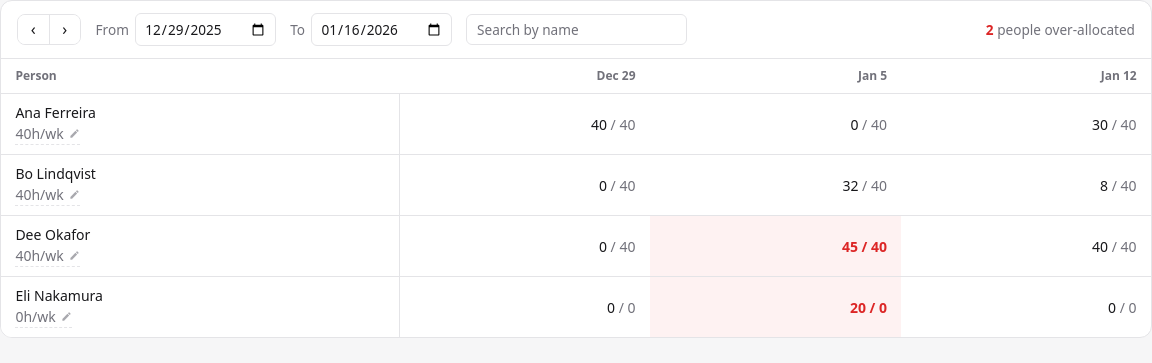
editing capacity › cancels on Escape without saving
Check: the column heading "Ana Ferreira 40h/wk" is shown, box [1,94,400,155]
Click the button "40h/wk" below "Ana Ferreira": [48, 135] box [15,124,80,145]
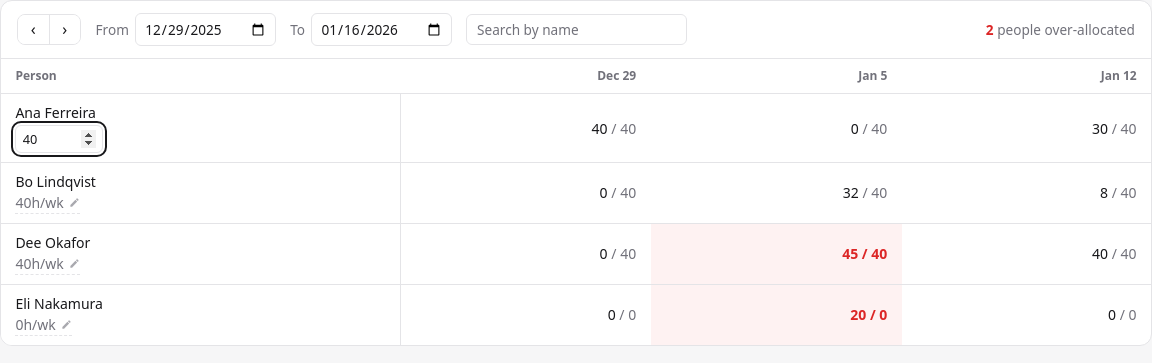
Replace the text in the number field named "Weekly hours for Ana Ferreira" with "50": [59, 139] box [15,125,103,153]
Then press Escape
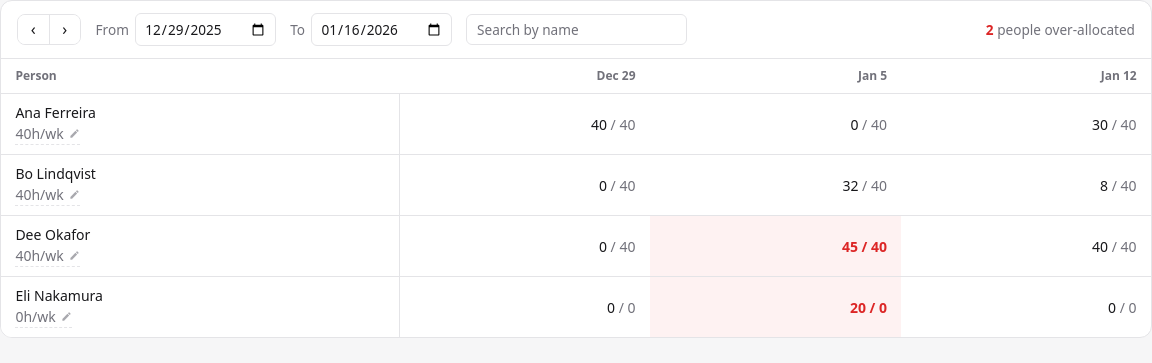
Check: the button "40h/wk" below "Ana Ferreira" is shown, box [15,124,80,145]
